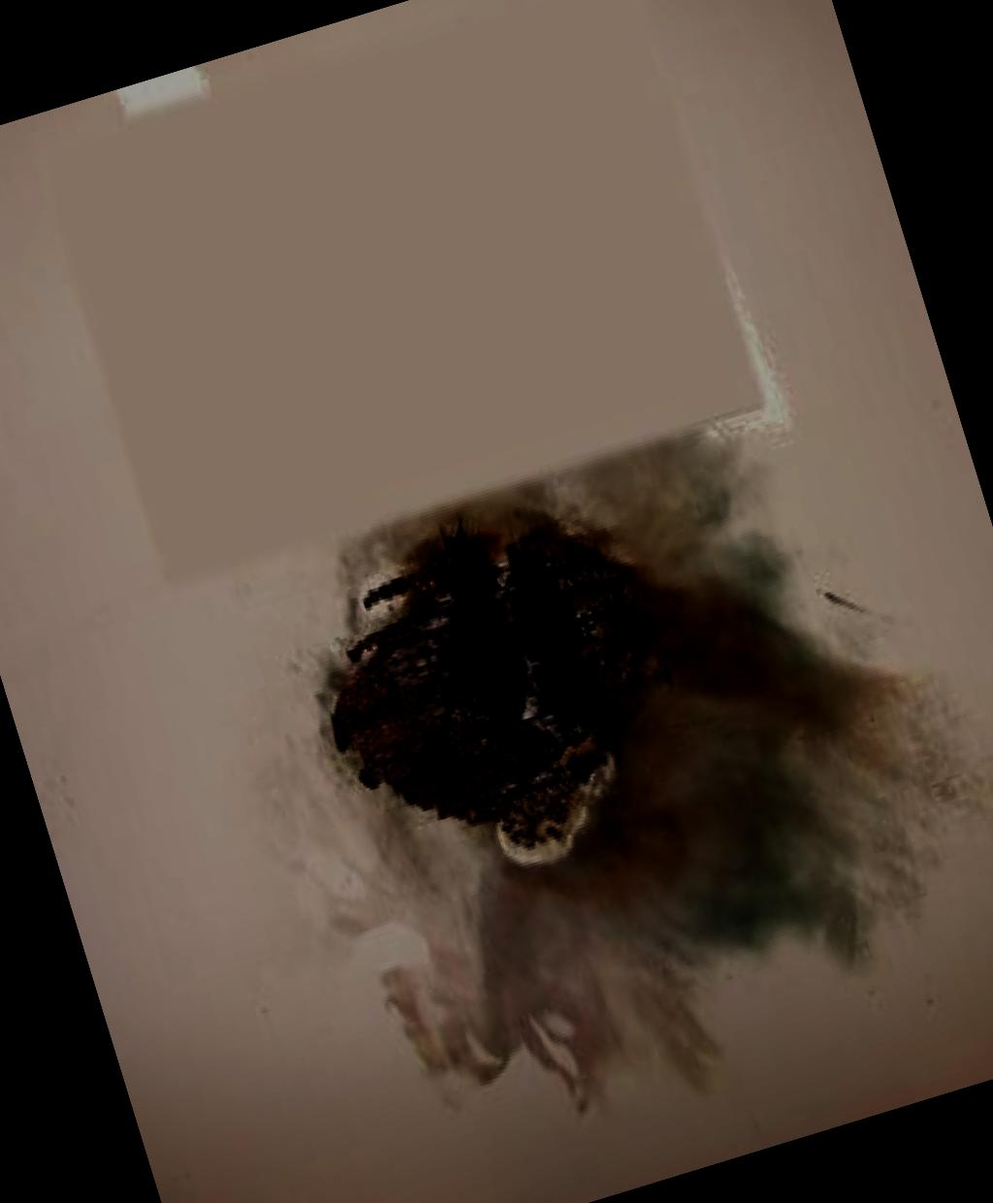corrosion: (273, 445, 798, 920)
